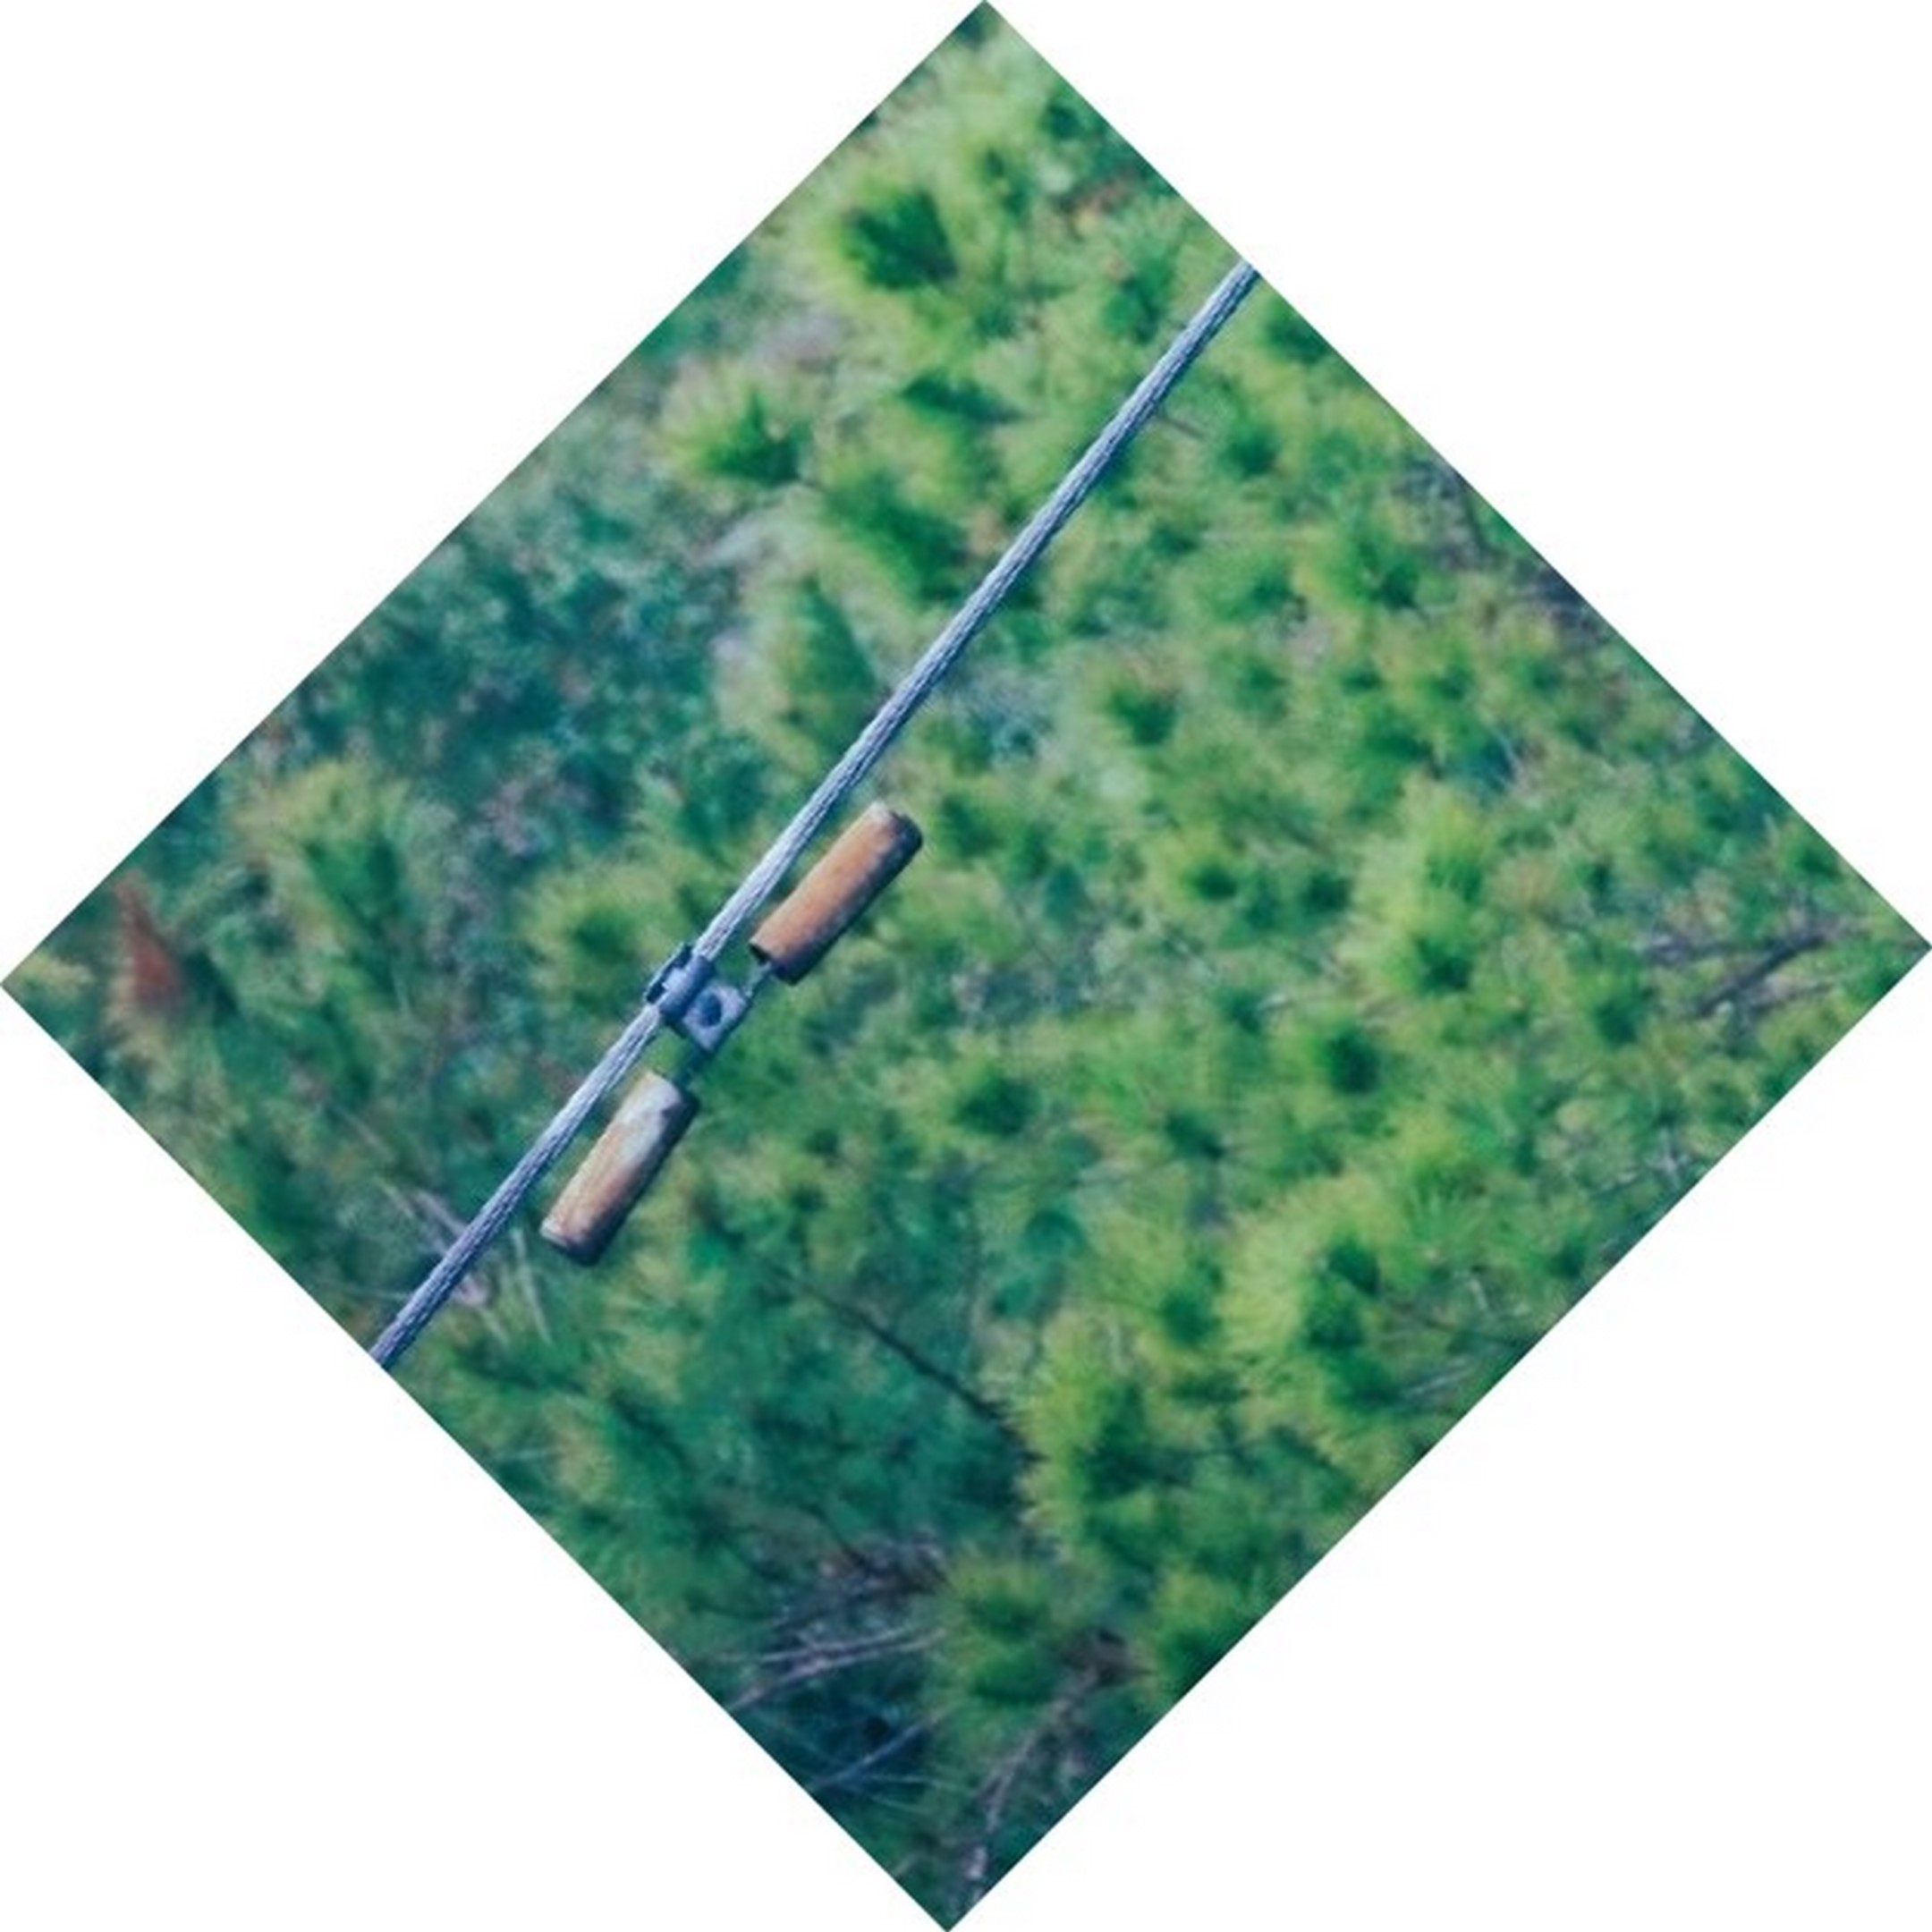Shockproof hammer: (492, 773, 948, 1274)
